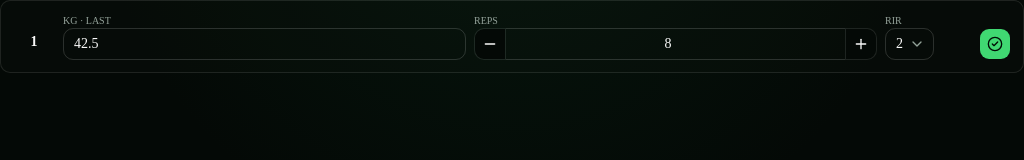
Test: SetLogForm › prefills the previous performance and adjusts reps one at a time
Expected: the number field labelled "KG · LAST" holds "42.5", [63,28,466,60]
Expected: the number field labelled "REPS" holds "8", [506,28,845,60]
What coordinates should you click on to do the following:
click the button named "Add one rep to set 1"
I would click on:
 (861, 44)
Its box is [845,28,877,60].
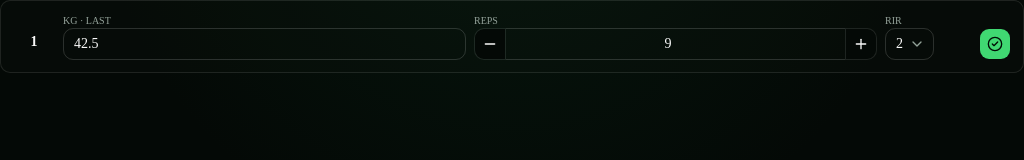
Expected: the number field labelled "REPS" holds "9", [506,28,845,60]
What coordinates should you click on to do the following:
click the button named "Remove one rep from set 1"
I would click on:
 (490, 44)
Its box is [474,28,506,60].
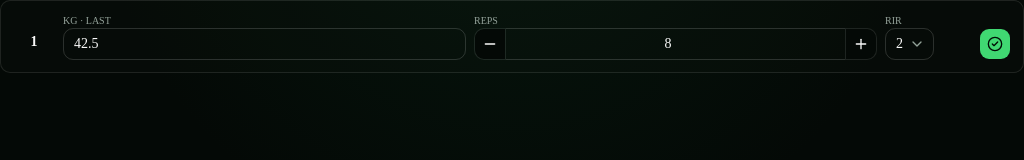
Expected: the number field labelled "REPS" holds "8", [506,28,845,60]
